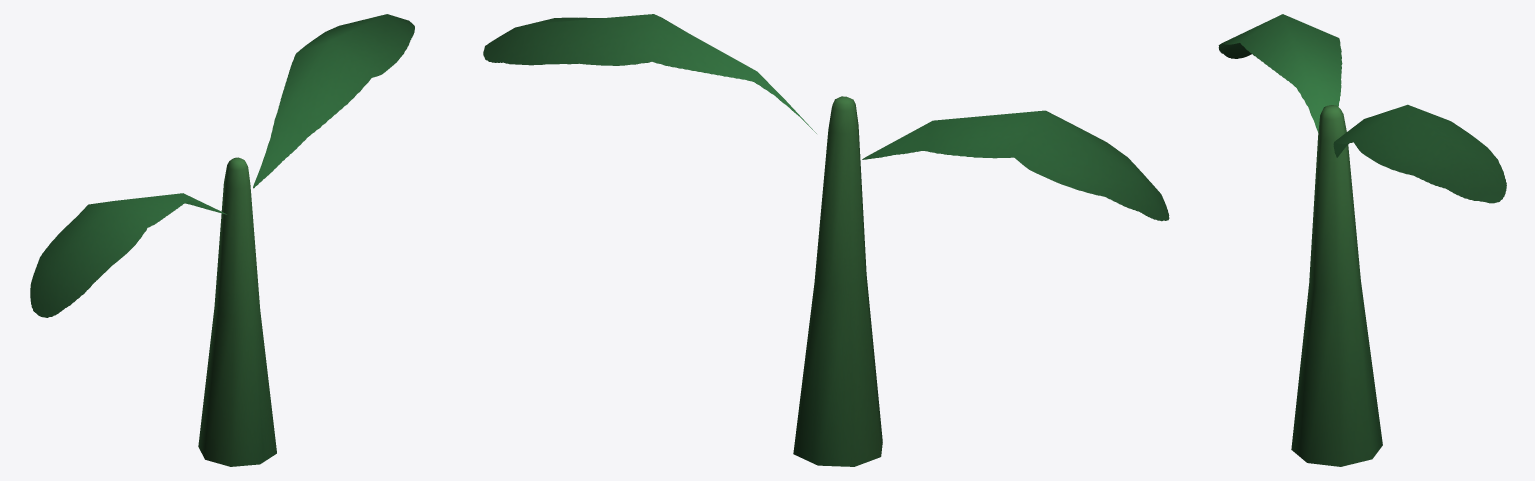
The model's file is Maize_1.fbx.
The picture shows the model from 3 angles, left to right: view 1: azimuth 30°, elevation 25°; view 2: azimuth 150°, elevation 25°; view 3: azimuth 270°, elevation 25°; orthographic projection. The views are drawn at different scales.
Parts seen in each view (by area): view 1: Corn Stage 2_LOD0_0; view 2: Corn Stage 2_LOD0_0; view 3: Corn Stage 2_LOD0_0.
Part boxes in pixels (box(x1,y1,x2,y2)): Corn Stage 2_LOD0_0: box(30, 14, 414, 466); Corn Stage 2_LOD0_0: box(483, 14, 1169, 466); Corn Stage 2_LOD0_0: box(1218, 14, 1506, 466).
Bounding box in the file's own units: 31.26 × 21.65 × 14.95.
